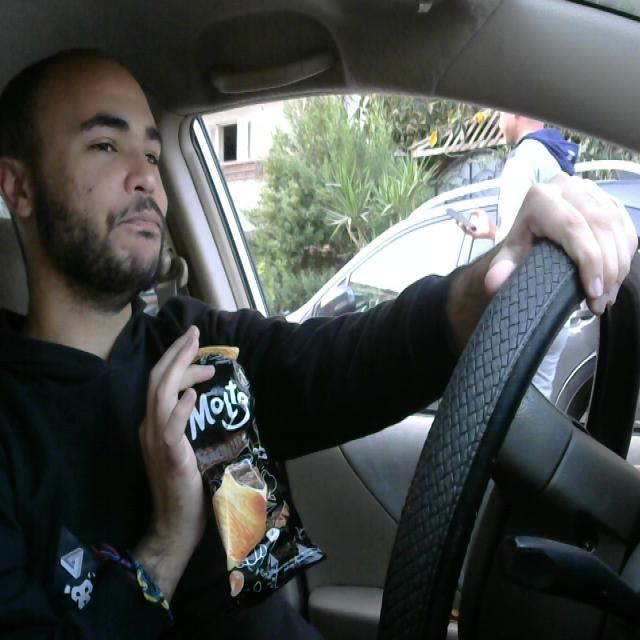eating: (172, 334, 324, 618)
